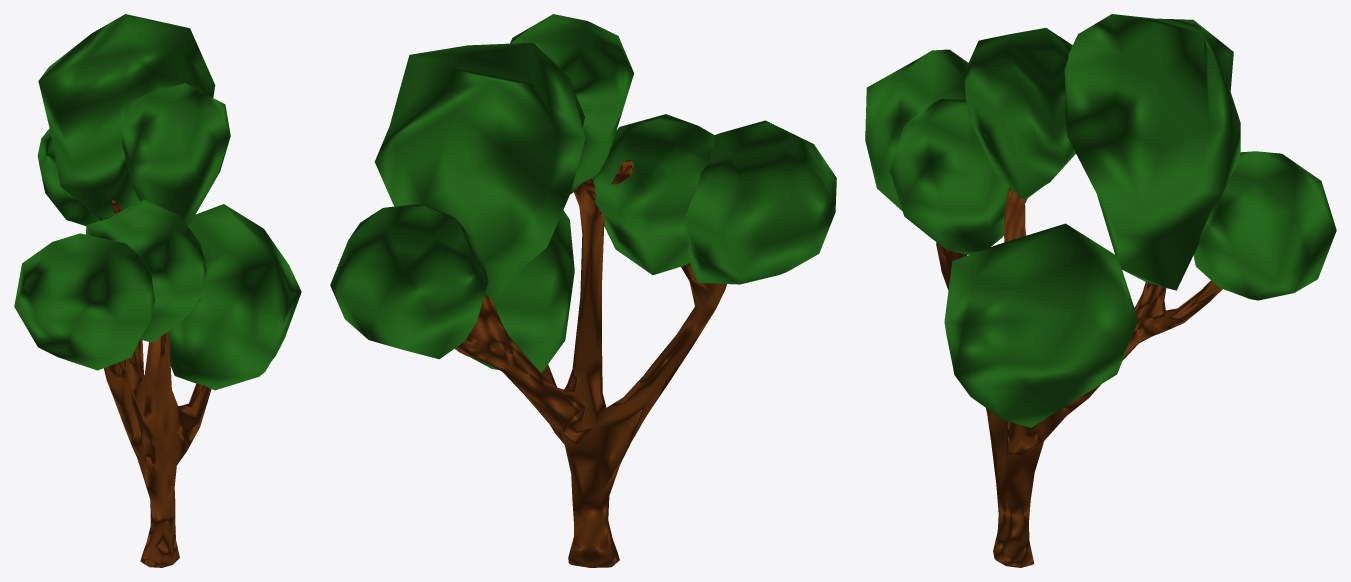
Rendered from Tree_3.obj.
3 views of the same model, side by side, from view 1: azimuth 30°, elevation 25°; view 2: azimuth 150°, elevation 25°; view 3: azimuth 270°, elevation 25° (orthographic). The views are drawn at different scales.
Visible parts, largest first — view 1: Leaves_4, Leaves_3, Leaves_1, Tree_3, Leaves_5, Leaves_2, Leaves_6; view 2: Leaves_4, Tree_3, Leaves_1, Leaves_6, Leaves_2, Leaves_5, Leaves_3; view 3: Leaves_4, Leaves_3, Leaves_6, Leaves_5, Leaves_2, Tree_3, Leaves_1.
Boxes of the visible parts, left/top/right/bottom form: Leaves_4: left=38, top=14, right=215, bottom=220; Leaves_3: left=169, top=204, right=301, bottom=390; Leaves_1: left=14, top=233, right=155, bottom=370; Tree_3: left=104, top=200, right=211, bottom=567; Leaves_5: left=122, top=83, right=230, bottom=225; Leaves_2: left=86, top=199, right=206, bottom=342; Leaves_6: left=37, top=128, right=100, bottom=225; Leaves_4: left=375, top=42, right=585, bottom=301; Tree_3: left=455, top=158, right=726, bottom=567; Leaves_1: left=684, top=120, right=836, bottom=284; Leaves_6: left=330, top=204, right=488, bottom=359; Leaves_2: left=592, top=114, right=715, bottom=274; Leaves_5: left=510, top=14, right=633, bottom=194; Leaves_3: left=454, top=210, right=574, bottom=373; Leaves_4: left=1064, top=14, right=1240, bottom=290; Leaves_3: left=944, top=223, right=1138, bottom=427; Leaves_6: left=1193, top=151, right=1336, bottom=300; Leaves_5: left=963, top=28, right=1075, bottom=198; Leaves_2: left=890, top=99, right=1027, bottom=254; Tree_3: left=936, top=187, right=1222, bottom=567; Leaves_1: left=865, top=49, right=968, bottom=210.
Size of the model in its own units: 752 by 1116 by 864.
